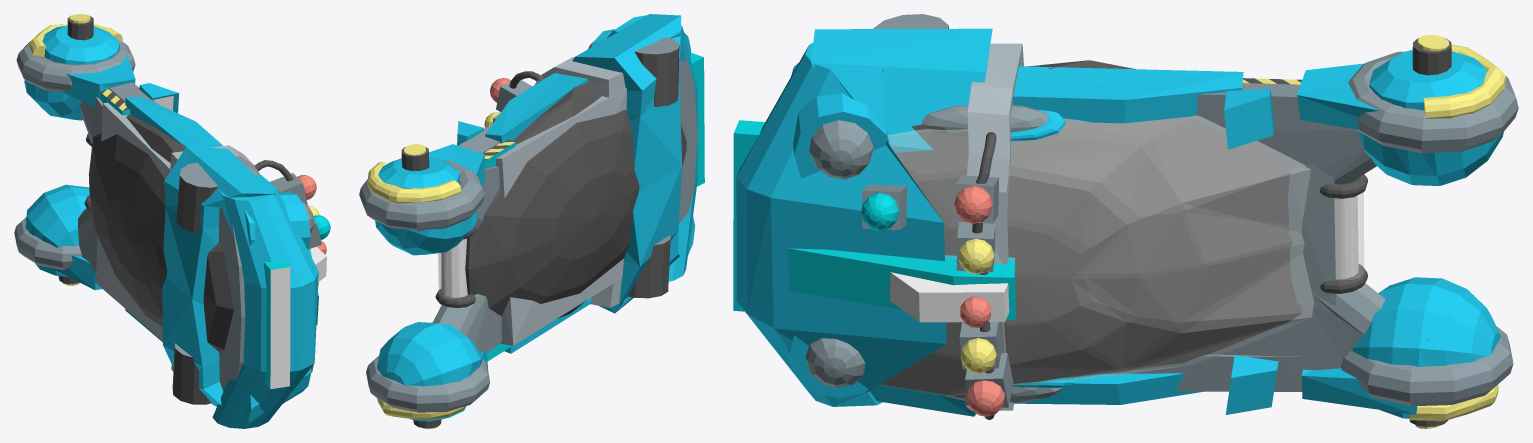
Rendered from hovercar_0.glb.
3 views of the same model, side by side, from view 1: azimuth 30°, elevation 25°; view 2: azimuth 150°, elevation 25°; view 3: azimuth 270°, elevation 25° (orthographic). The views are drawn at different scales.
Visible parts, largest first — view 1: mesh7044159; view 2: mesh7044159; view 3: mesh7044159.
Part boxes in pixels (<box>): mesh7044159: <box>14,14,330,428</box>; mesh7044159: <box>359,14,704,428</box>; mesh7044159: <box>733,14,1518,428</box>.
Size of the model in its own units: 0.1783 by 0.2701 by 0.4912.
